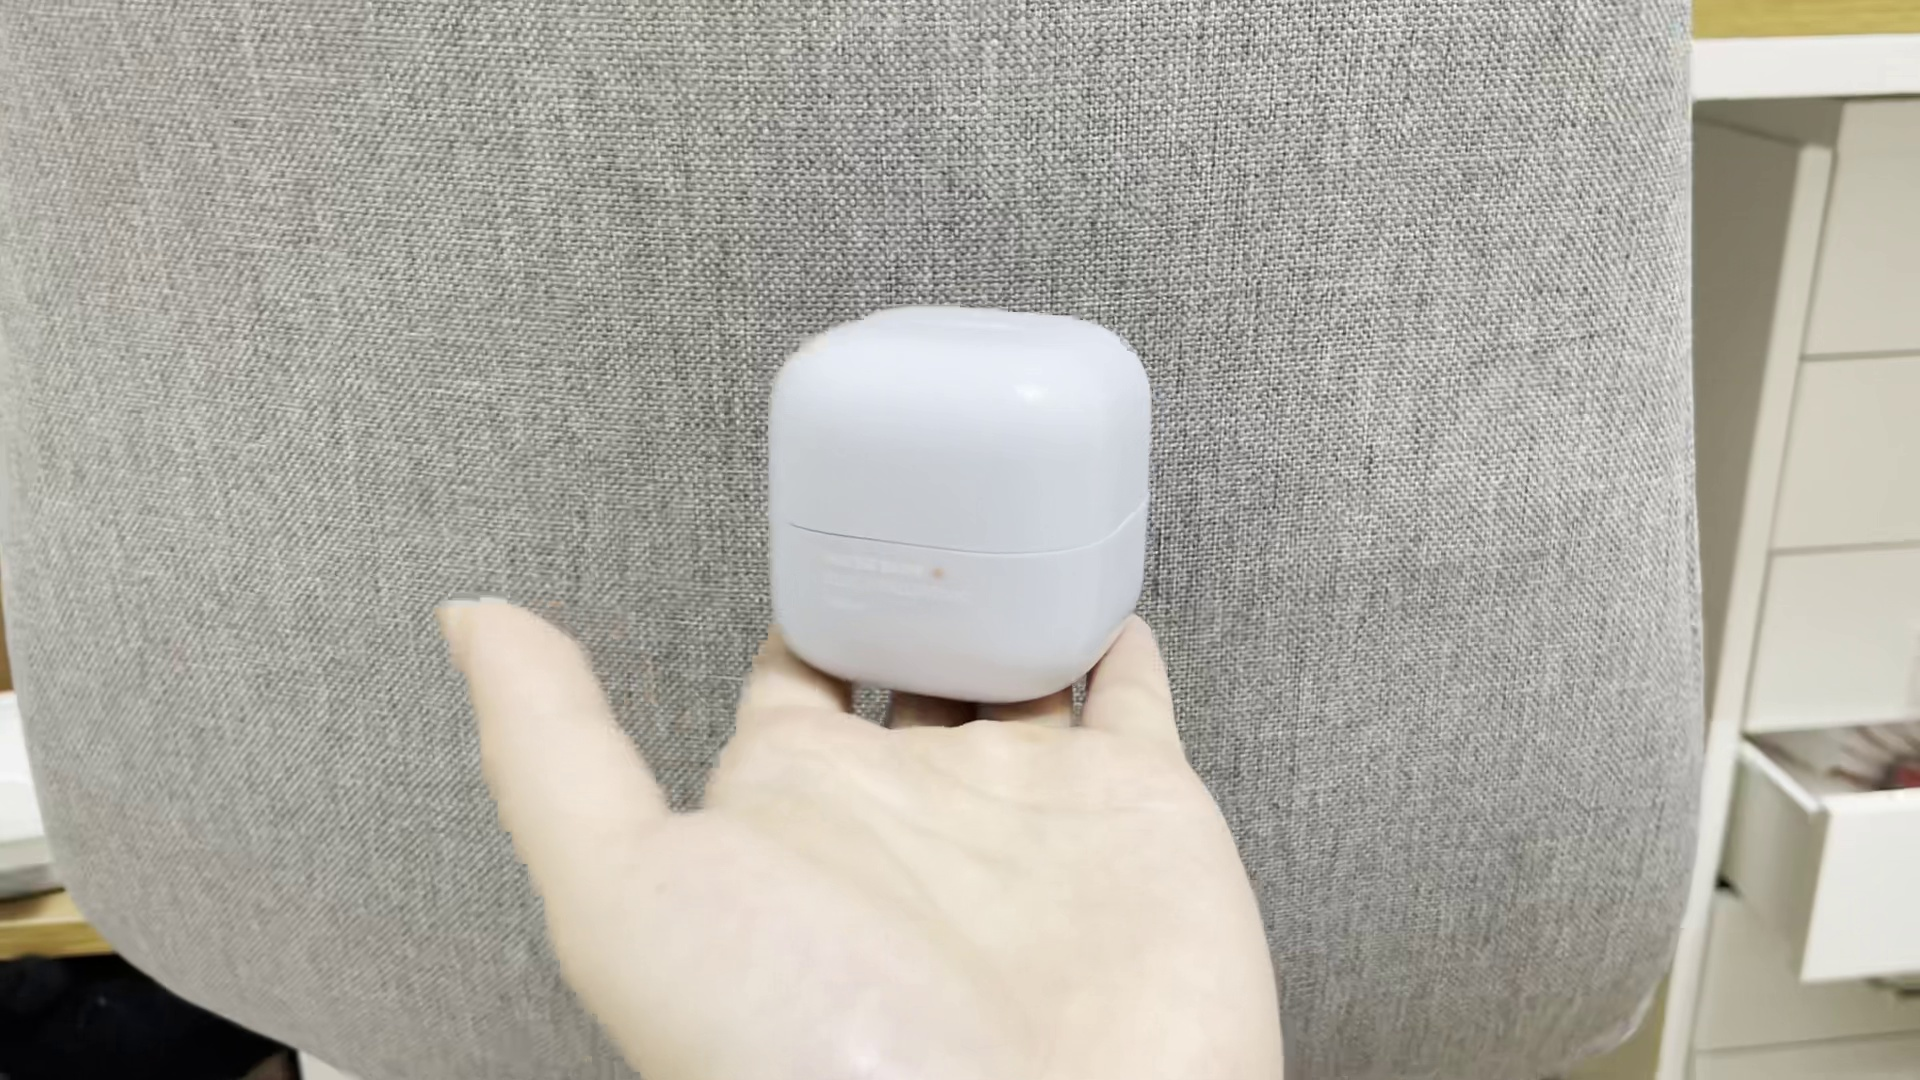cream: (771, 306, 1142, 708)
